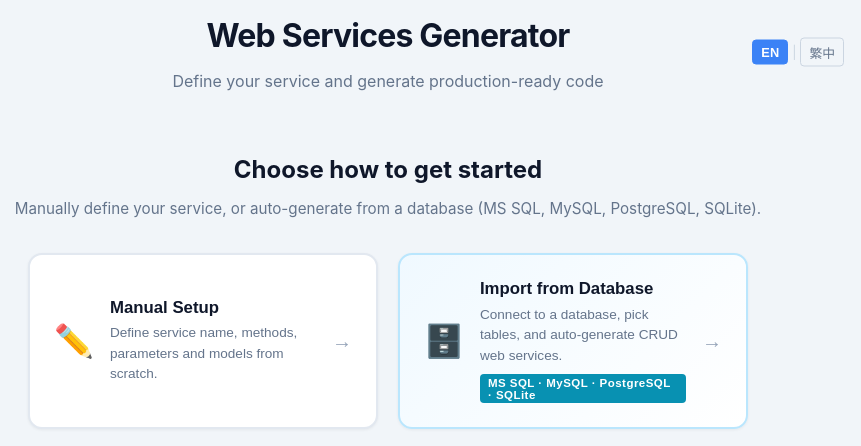
language switcher in App header › clicking EN restores English title
Click the button with aria-label "切換為繁體中文": (822, 52) [800,38,844,67]
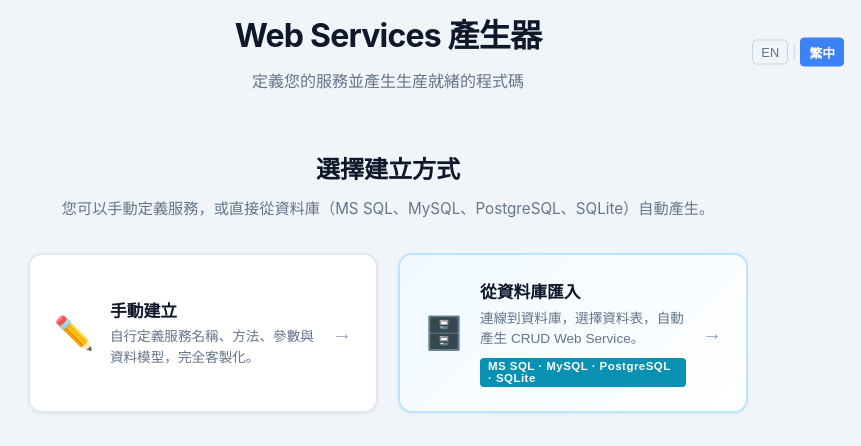
Click the button with aria-label "switch to english": (770, 52) [752,40,788,65]
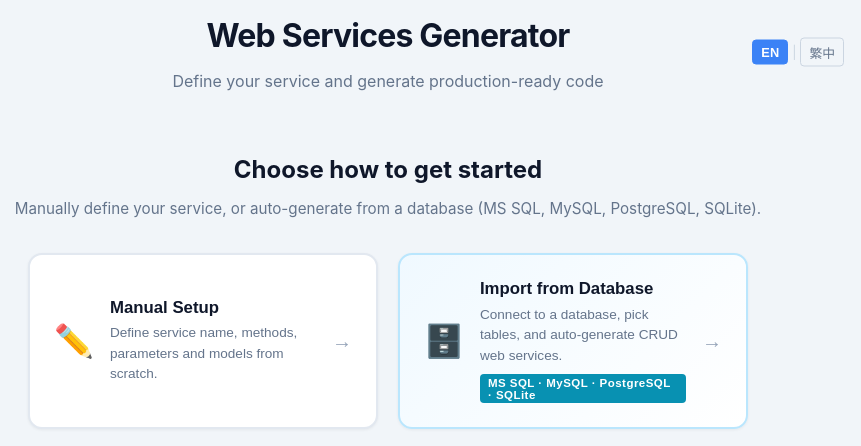
Expected: the heading "Web Services Generator" is shown, [206,16,569,55]
